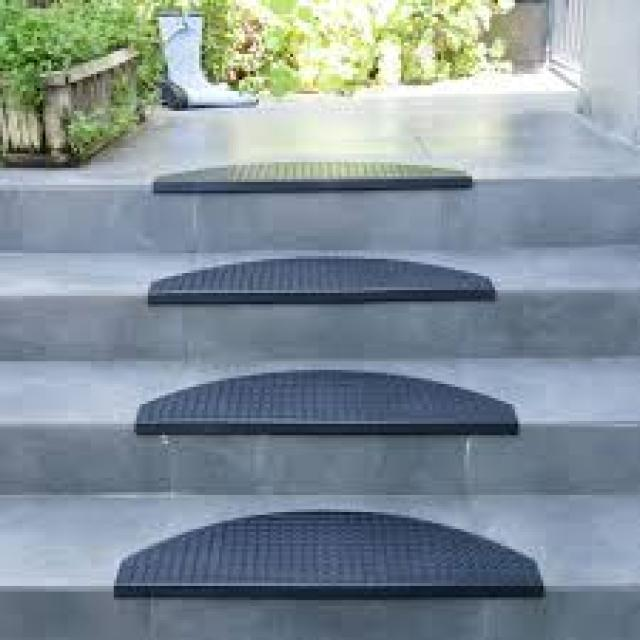stairs: (0, 165, 637, 637)
